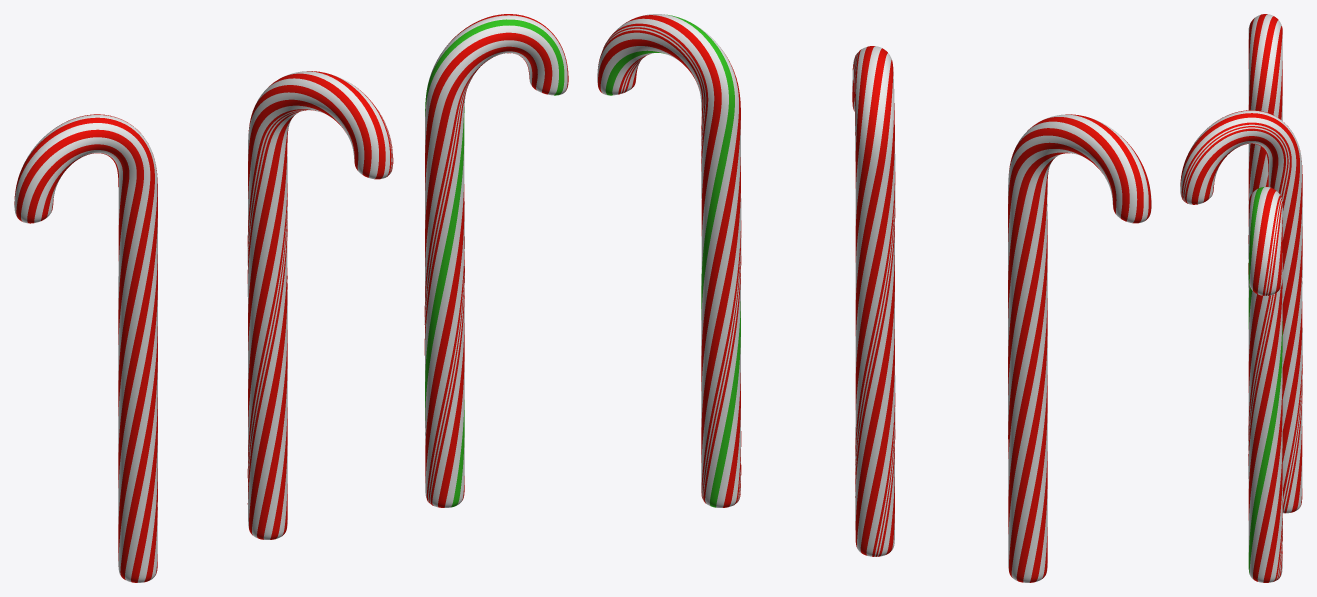
Rendered from Candy Canes.fbx.
3 views of the same model, side by side, from view 1: azimuth 30°, elevation 25°; view 2: azimuth 150°, elevation 25°; view 3: azimuth 270°, elevation 25° (orthographic). The views are drawn at different scales.
Parts seen in each view (by area): view 1: Candy Cane.001, Candy Cane, Candy Cane.002; view 2: Candy Cane.002, Candy Cane, Candy Cane.001; view 3: Candy Cane.002, Candy Cane.001, Candy Cane.
Part boxes in pixels (x1,y1,x2,y2): Candy Cane.001: (247,71,393,539); Candy Cane: (14,114,157,582); Candy Cane.002: (424,14,568,507); Candy Cane.002: (597,14,741,507); Candy Cane: (1008,114,1151,582); Candy Cane.001: (852,46,895,556); Candy Cane.002: (1248,187,1282,582); Candy Cane.001: (1180,110,1302,513); Candy Cane: (1248,14,1282,200).
Size of the model in its own units: 3108 by 2565 by 697.
